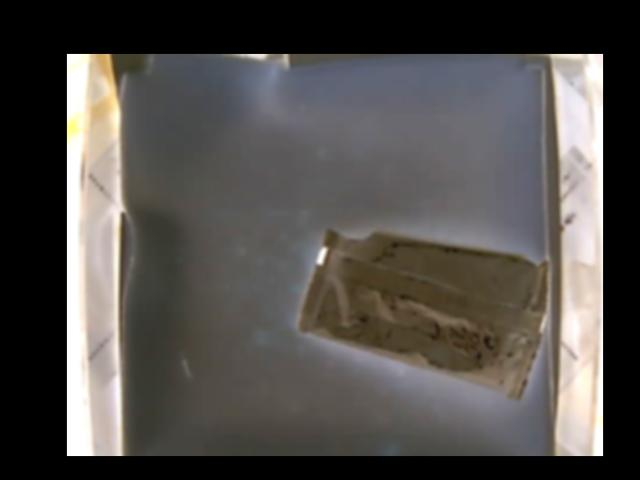Medicine: (299, 227, 557, 396)
